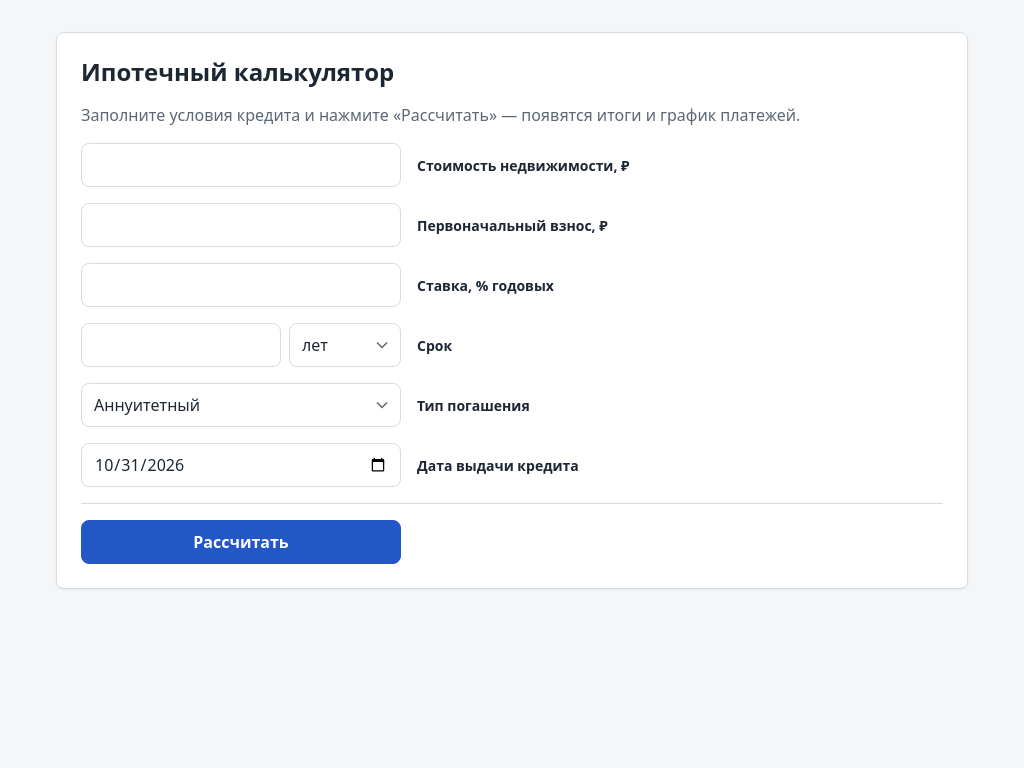
Test case: 422 с termMonths → сообщение у поля «Срок»
The width and height of the screenshot is (1024, 768).
In the field labelled "Стоимость недвижимости, ₽": (241, 165) top-left (81, 143), bottom-right (401, 187), type "5000000"
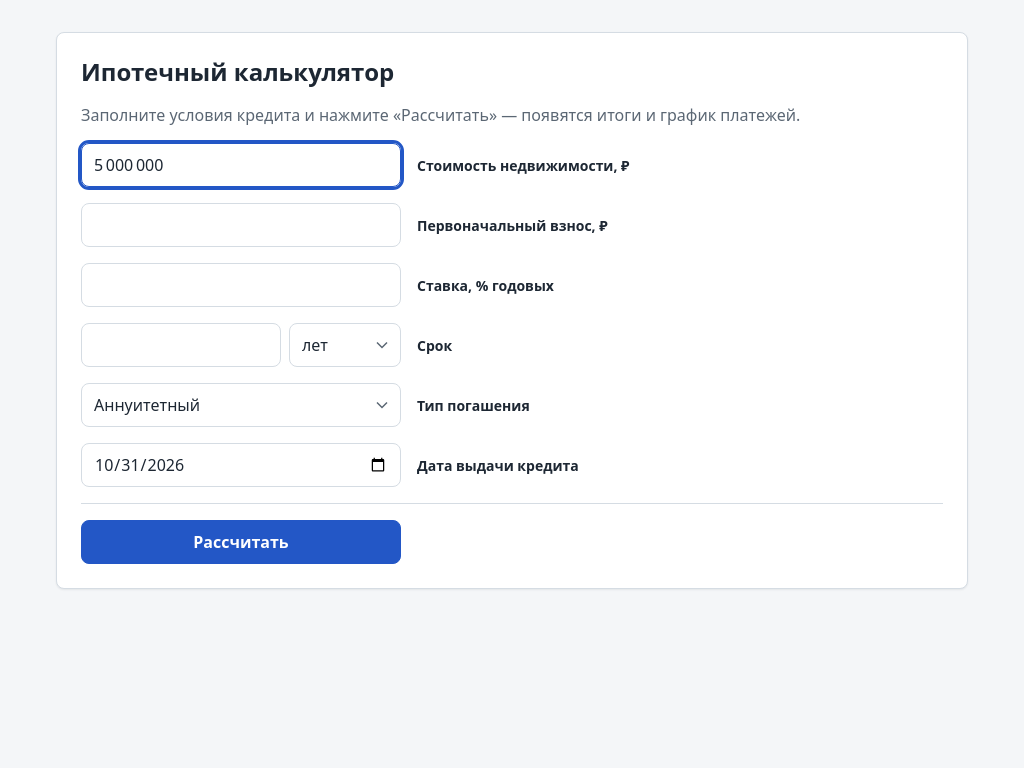
In the field labelled "Первоначальный взнос, ₽": (241, 225) top-left (81, 203), bottom-right (401, 247), type "1000000"
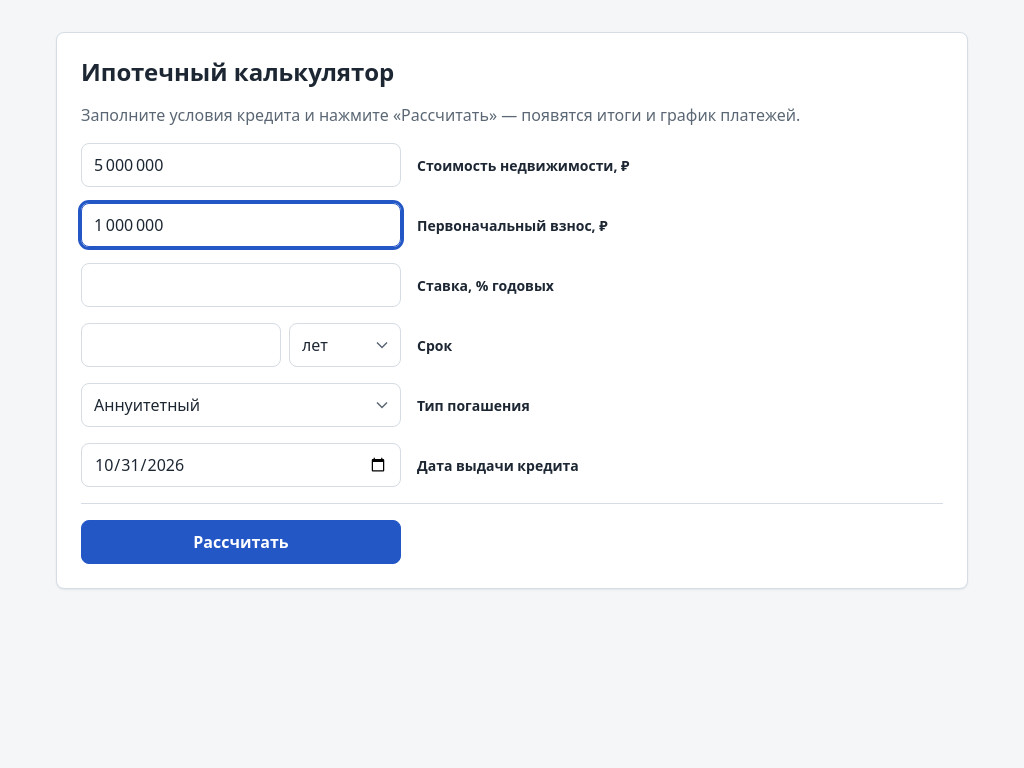
In the field labelled "Ставка, % годовых": (241, 285) top-left (81, 263), bottom-right (401, 307), type "18.5"
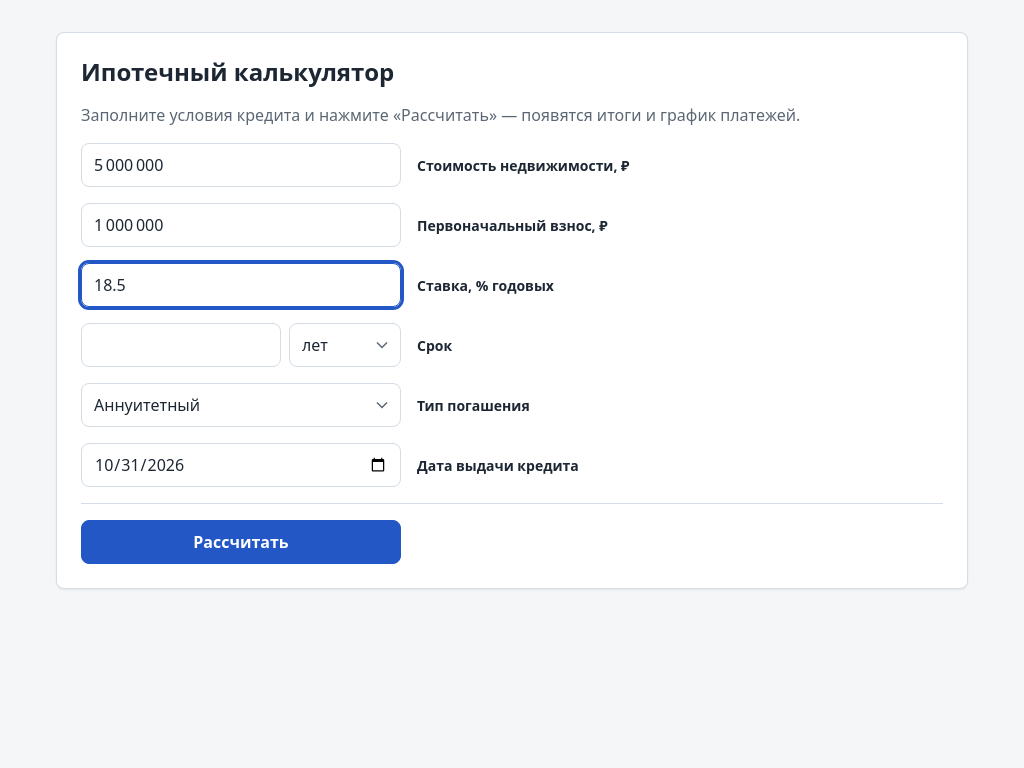
In the field labelled "Срок": (181, 345) top-left (81, 323), bottom-right (281, 367), type "20"
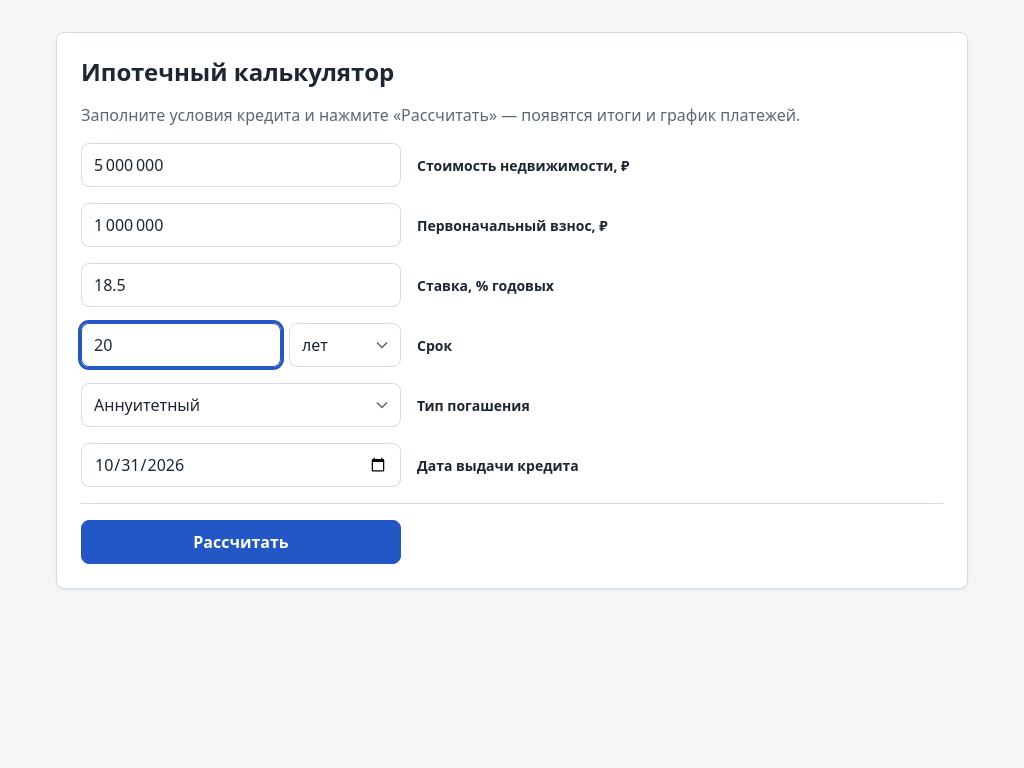
Click the button "Рассчитать": (241, 542) top-left (81, 520), bottom-right (401, 564)
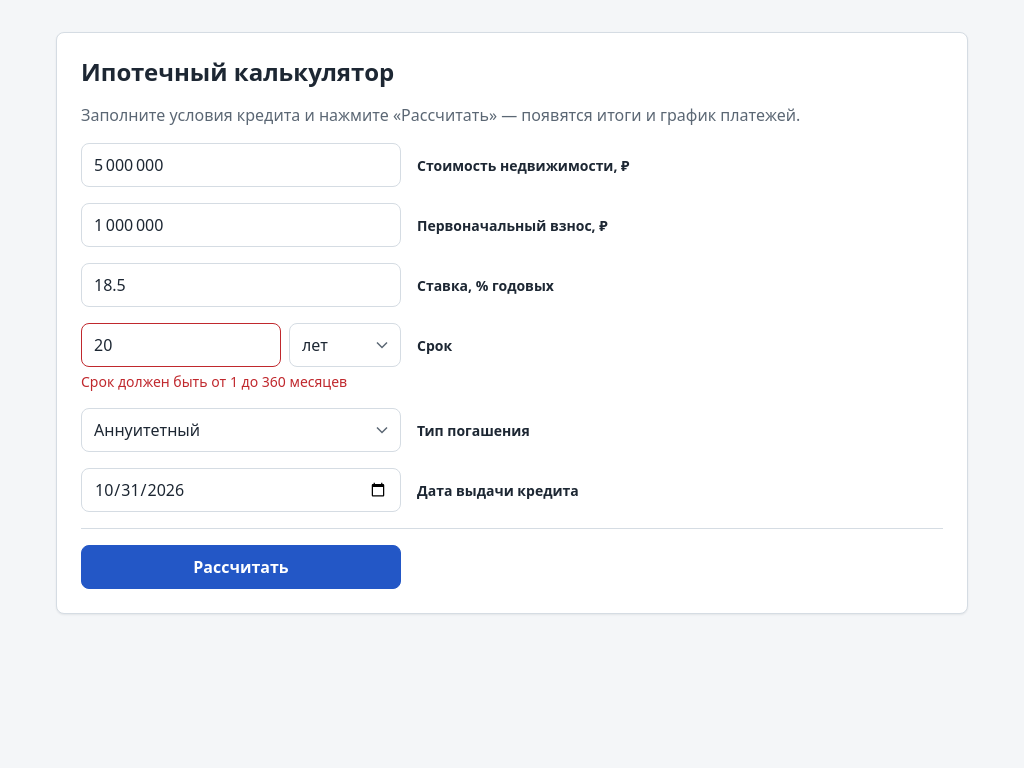
Check: the text "Срок должен быть от 1 до 360 месяцев" is shown, box top-left (81, 372), bottom-right (347, 391)
